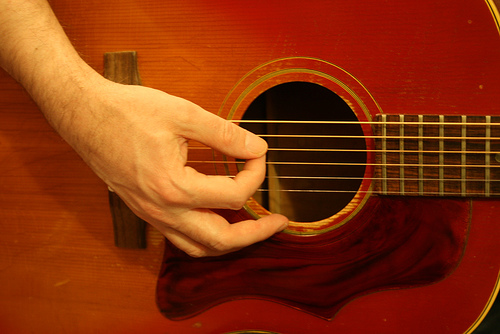guitar: (1, 1, 500, 334)
